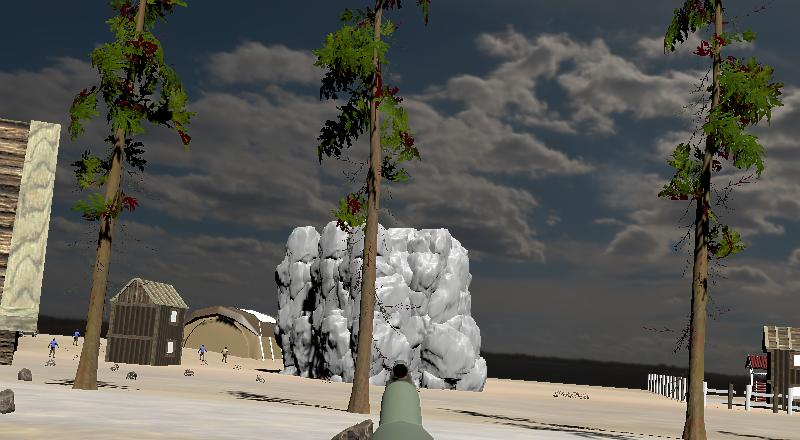House: (0, 117, 62, 337), (106, 276, 188, 364), (761, 324, 800, 407)
Human: (47, 336, 59, 358), (220, 345, 232, 364), (197, 343, 208, 363), (72, 329, 81, 346)
